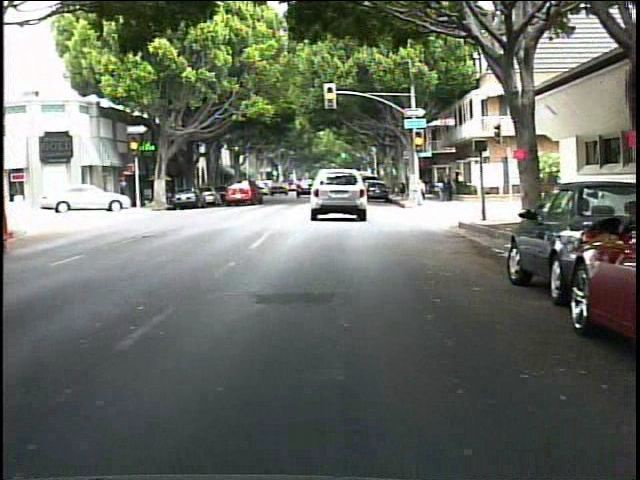person: (408, 171, 429, 210), (443, 168, 457, 204), (451, 164, 466, 196), (435, 170, 449, 202)
